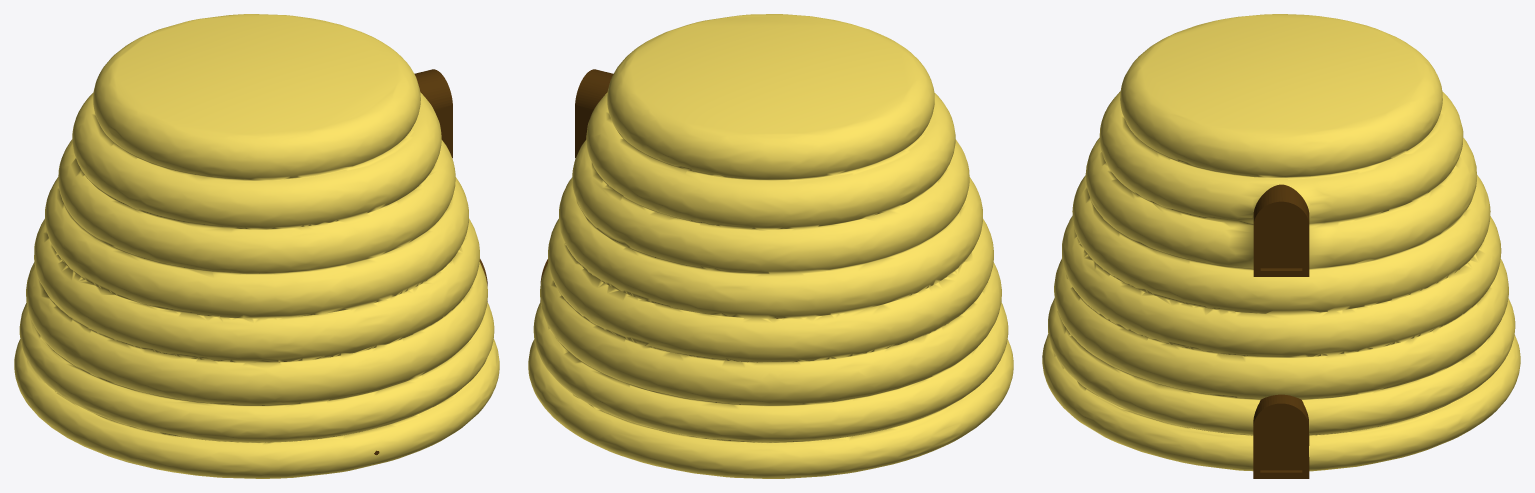
Rendered from beehive.obj.
The picture shows the model from 3 angles, left to right: view 1: azimuth 30°, elevation 25°; view 2: azimuth 150°, elevation 25°; view 3: azimuth 270°, elevation 25°; orthographic projection.
Visible parts, largest first — view 1: blackBlackBlack; view 2: blackBlackBlack; view 3: blackBlackBlack.
Boxes of the visible parts, x1=… form: blackBlackBlack: x1=14, y1=14, x2=499, y2=478; blackBlackBlack: x1=528, y1=14, x2=1013, y2=478; blackBlackBlack: x1=1042, y1=14, x2=1520, y2=478.
Bounding box in the file's own units: 2.21 × 1.52 × 2.17.
